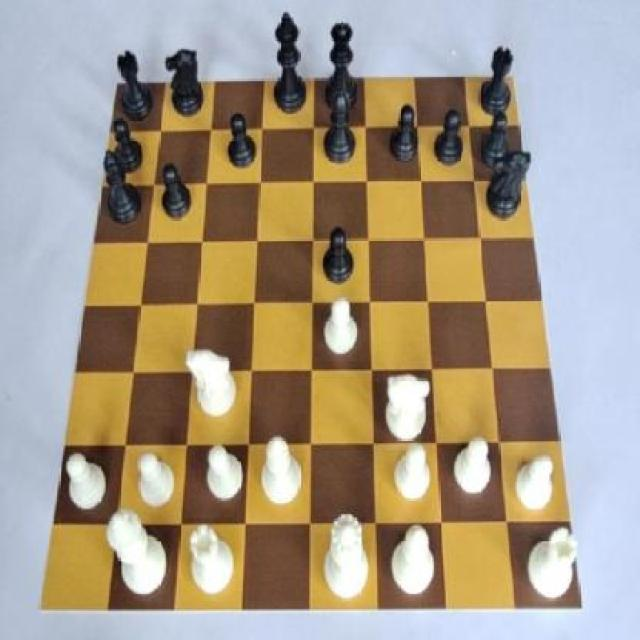bishop: (100, 148, 146, 240), (324, 85, 356, 177)
black-bishop: (272, 12, 308, 118)
black-king: (484, 146, 530, 231), (166, 41, 209, 120)
black-knight: (154, 158, 200, 224), (320, 223, 362, 290), (432, 104, 468, 178), (220, 112, 261, 175), (385, 105, 422, 167), (478, 114, 514, 174), (108, 114, 144, 173)
black-pawn: (323, 14, 356, 123)
black-queen: (114, 46, 157, 128), (478, 44, 514, 118)
black-rook: (386, 522, 442, 602), (262, 438, 300, 511)
white-bishop: (108, 508, 170, 604)
white-king: (180, 343, 242, 424), (380, 369, 441, 444)
white-knight: (60, 448, 112, 515), (132, 437, 176, 512), (198, 438, 244, 509), (449, 434, 498, 498), (509, 454, 561, 513), (322, 291, 361, 364), (394, 446, 434, 507)
white-pawn: (322, 508, 369, 603)
white-queen: (524, 523, 584, 608), (182, 523, 240, 605)
